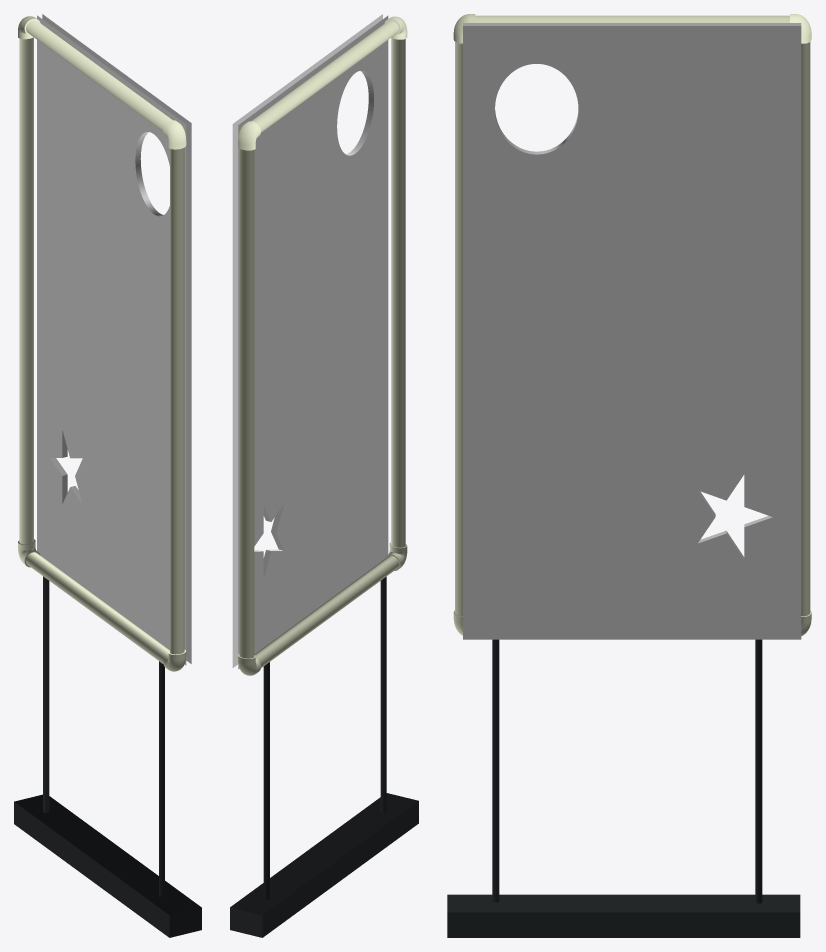
Rendered from board_gman.dae.
3 views of the same model, side by side, from view 1: azimuth 30°, elevation 25°; view 2: azimuth 150°, elevation 25°; view 3: azimuth 270°, elevation 25° (orthographic). The views are drawn at different scales.
Visible parts, largest first — view 1: canvas, ballast_box, vert_right, vert_left, horiz_top, horiz_bottom, right_pole, left_pole, top_right; view 2: canvas, ballast_box, vert_left, vert_right, horiz_top, horiz_bottom, right_pole, left_pole, top_left; view 3: canvas, ballast_box, vert_left, vert_right, horiz_top, right_pole, left_pole.
Part boxes in pixels (<box>): canvas: <box>37,14,191,665</box>; ballast_box: <box>14,794,201,937</box>; vert_right: <box>170,147,184,654</box>; vert_left: <box>19,37,33,544</box>; horiz_top: <box>26,20,172,131</box>; horiz_bottom: <box>26,552,169,663</box>; right_pole: <box>43,576,49,812</box>; left_pole: <box>159,661,164,896</box>; top_right: <box>163,120,186,149</box>; canvas: <box>232,14,388,669</box>; ballast_box: <box>230,793,418,937</box>; vert_left: <box>239,148,254,658</box>; vert_right: <box>391,38,405,547</box>; horiz_top: <box>251,20,399,132</box>; horiz_bottom: <box>254,556,399,667</box>; right_pole: <box>263,662,269,899</box>; left_pole: <box>380,576,386,813</box>; top_left: <box>238,121,260,150</box>; canvas: <box>463,23,801,639</box>; ballast_box: <box>447,894,800,937</box>; vert_left: <box>801,42,810,616</box>; vert_right: <box>455,42,462,616</box>; horiz_top: <box>475,15,789,22</box>; right_pole: <box>755,639,762,903</box>; left_pole: <box>492,639,499,902</box>.
Size of the model in its own units: 0.0762 by 0.6555 by 1.81.
